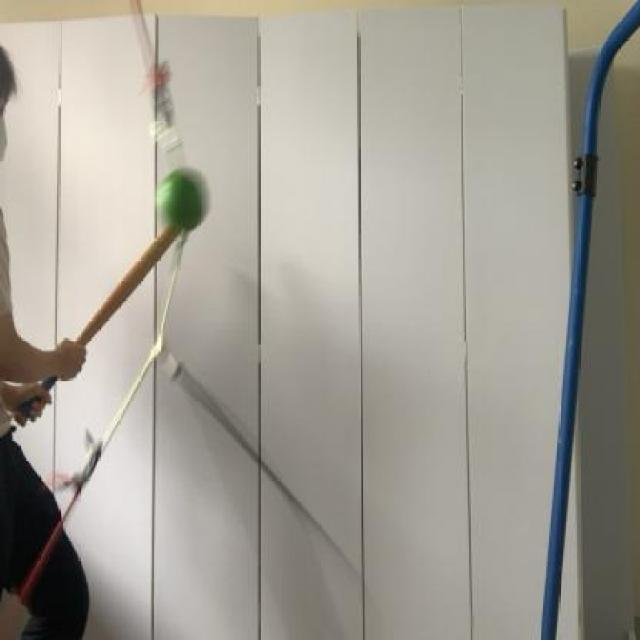baseball: (149, 162, 220, 247)
